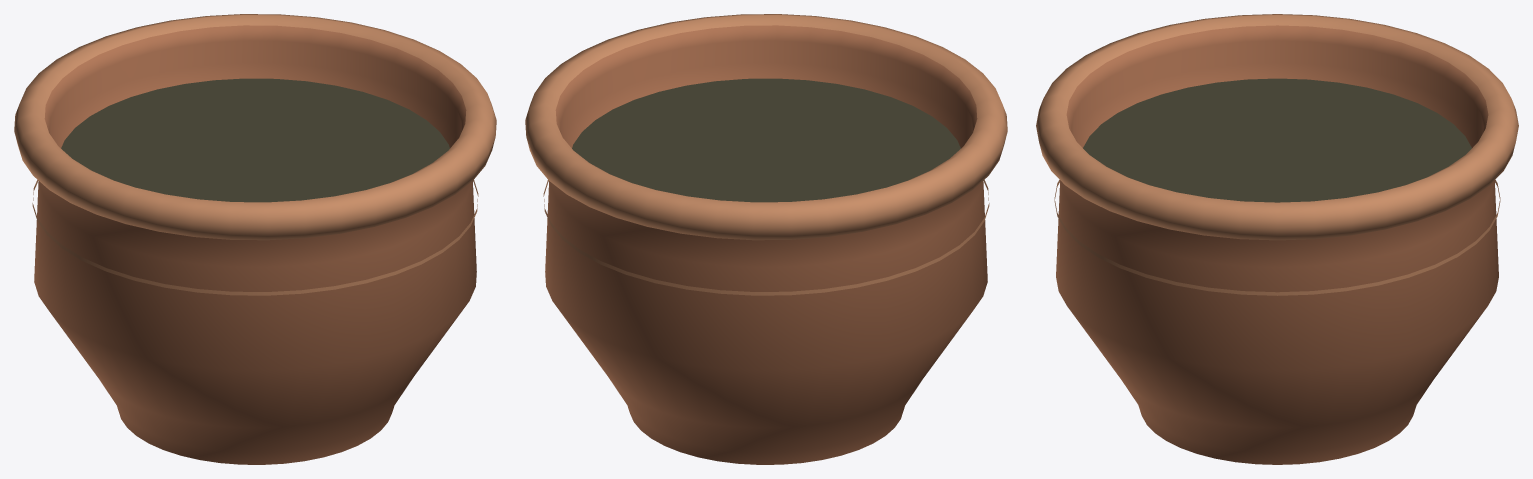
File: clay_pot_1.glb
3 renders of one model, left to right at view 1: azimuth 30°, elevation 25°; view 2: azimuth 150°, elevation 25°; view 3: azimuth 270°, elevation 25°, orthographic.
Parts seen in each view (by area): view 1: clay_pot_1; view 2: clay_pot_1; view 3: clay_pot_1.
Boxes of the visible parts, left/top/right/bottom form: clay_pot_1: left=14, top=14, right=496, bottom=464; clay_pot_1: left=525, top=14, right=1007, bottom=464; clay_pot_1: left=1036, top=14, right=1518, bottom=464.
Bounding box in the file's own units: 1.09 × 0.742 × 1.09.
